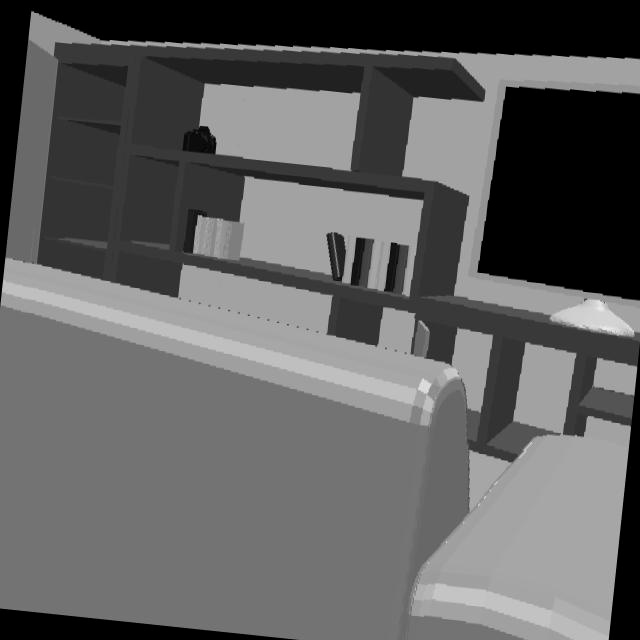book: (327, 234, 415, 296), (184, 212, 243, 260)
monitor: (471, 82, 640, 336)
shelf: (40, 45, 639, 446)
sofa: (0, 260, 628, 640), (0, 260, 627, 640)
